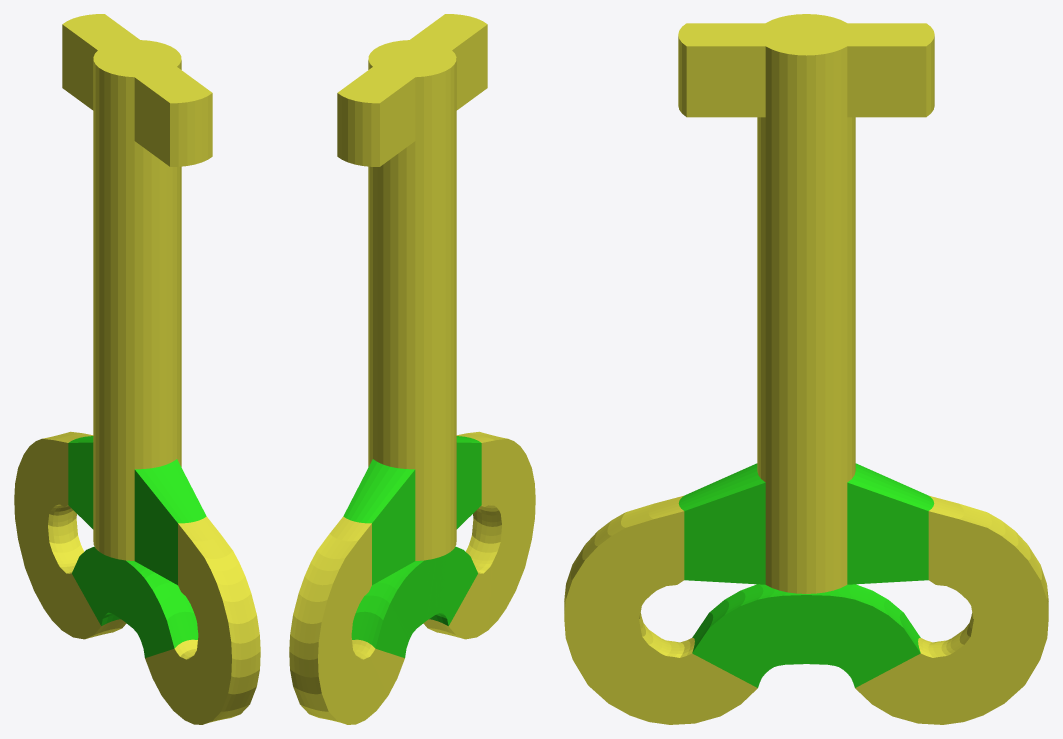
File: GreenKey.fbx
The picture shows the model from 3 angles, left to right: view 1: azimuth 30°, elevation 25°; view 2: azimuth 150°, elevation 25°; view 3: azimuth 270°, elevation 25°; orthographic projection. The views are drawn at different scales.
Parts seen in each view (by area): view 1: Cylinder.001; view 2: Cylinder.001; view 3: Cylinder.001.
Boxes of the visible parts, x1,y1,x2,y2 form: Cylinder.001: (14, 14, 260, 724); Cylinder.001: (289, 14, 535, 724); Cylinder.001: (564, 14, 1048, 724).
Bounding box in the file's own units: 49.18 × 377 × 243.
